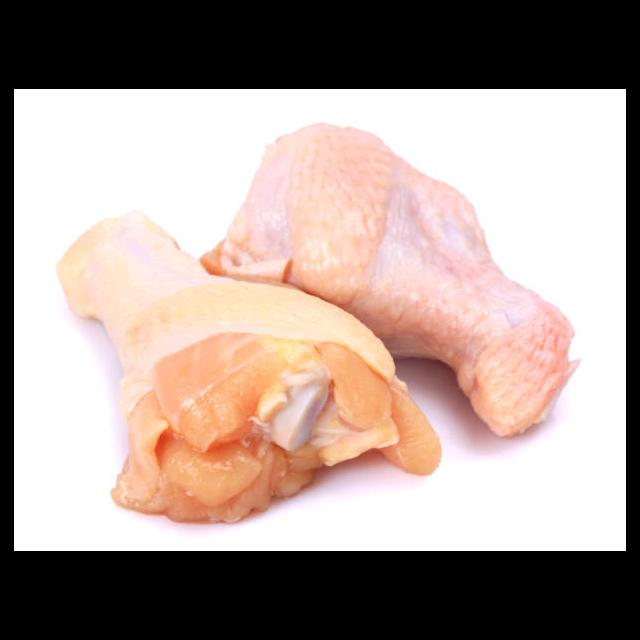chicken: (53, 207, 444, 529), (202, 121, 583, 441)
